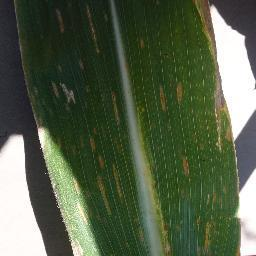Gray_Leaf_Spot: (84, 134, 126, 222), (208, 53, 241, 152), (9, 0, 30, 87), (191, 0, 223, 54), (230, 152, 246, 256), (22, 87, 44, 155), (46, 73, 77, 106), (104, 86, 122, 129), (196, 212, 213, 256), (86, 0, 99, 55), (171, 75, 187, 108), (160, 219, 174, 256), (53, 6, 67, 40), (155, 80, 168, 113), (67, 236, 86, 256), (179, 154, 191, 177), (75, 55, 87, 73), (138, 34, 149, 49), (56, 62, 65, 72)
